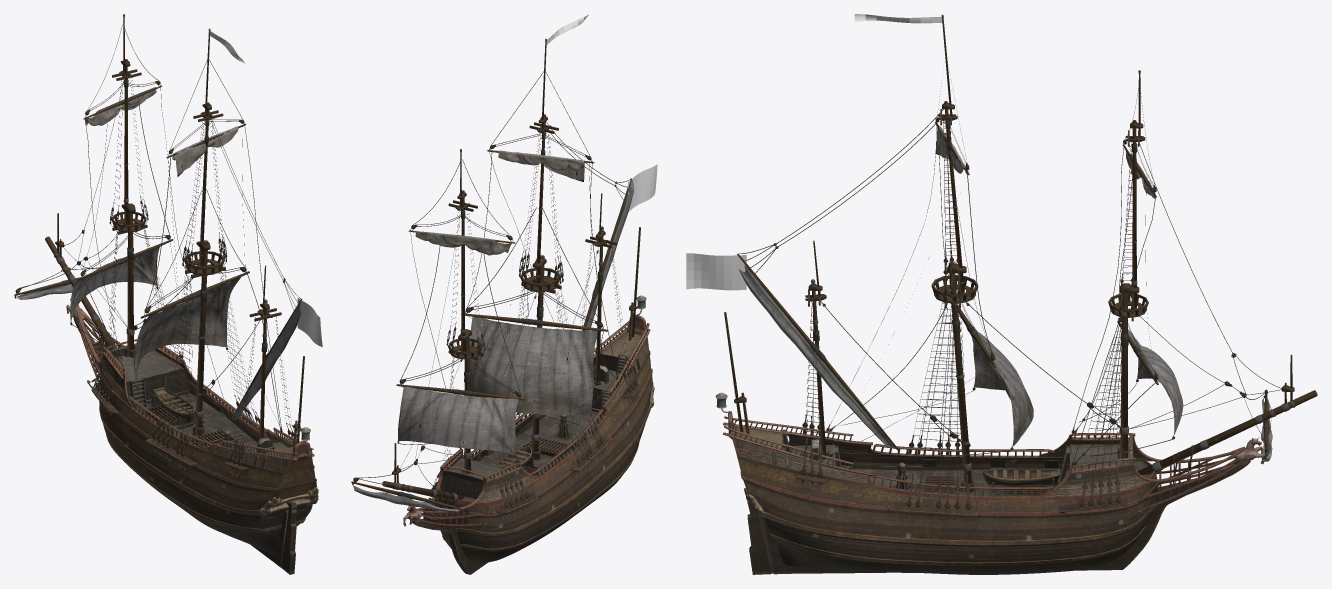
File: dutch_ship_medium.gltf
3 views of the same model, side by side, from view 1: azimuth 30°, elevation 25°; view 2: azimuth 150°, elevation 25°; view 3: azimuth 270°, elevation 25° (orthographic). The views are drawn at different scales.
Parts seen in each view (by area): view 1: dutch_ship_medium_hull, dutch_ship_medium_rigging, Sail_2, Sail_0, Sail_3, Sail_1, Flag; view 2: dutch_ship_medium_hull, dutch_ship_medium_rigging, Sail_2, Sail_0, Sail_3, Sail_1, Flag; view 3: dutch_ship_medium_hull, dutch_ship_medium_rigging, Sail_2, Flag, Sail_0.
Boxes of the visible parts, left/top/right/bottom form: dutch_ship_medium_hull: left=66, top=298, right=318, bottom=574; dutch_ship_medium_rigging: left=14, top=14, right=304, bottom=479; Sail_2: left=133, top=277, right=240, bottom=384; Sail_0: left=70, top=246, right=159, bottom=321; Sail_3: left=172, top=126, right=238, bottom=176; Sail_1: left=85, top=87, right=156, bottom=125; Flag: left=297, top=298, right=322, bottom=346; dutch_ship_medium_hull: left=403, top=295, right=654, bottom=574; dutch_ship_medium_rigging: left=351, top=39, right=640, bottom=528; Sail_2: left=470, top=316, right=597, bottom=415; Sail_0: left=398, top=386, right=518, bottom=454; Sail_3: left=498, top=150, right=584, bottom=181; Sail_1: left=415, top=231, right=511, bottom=255; Flag: left=628, top=164, right=657, bottom=211; dutch_ship_medium_hull: left=715, top=392, right=1264, bottom=574; dutch_ship_medium_rigging: left=724, top=14, right=1317, bottom=525; Sail_2: left=962, top=319, right=1033, bottom=446; Flag: left=686, top=253, right=746, bottom=290; Sail_0: left=1128, top=329, right=1183, bottom=435.
Size of the model in its own units: 6.81 by 24.66 by 25.24.
4 materials, 3 textured.
